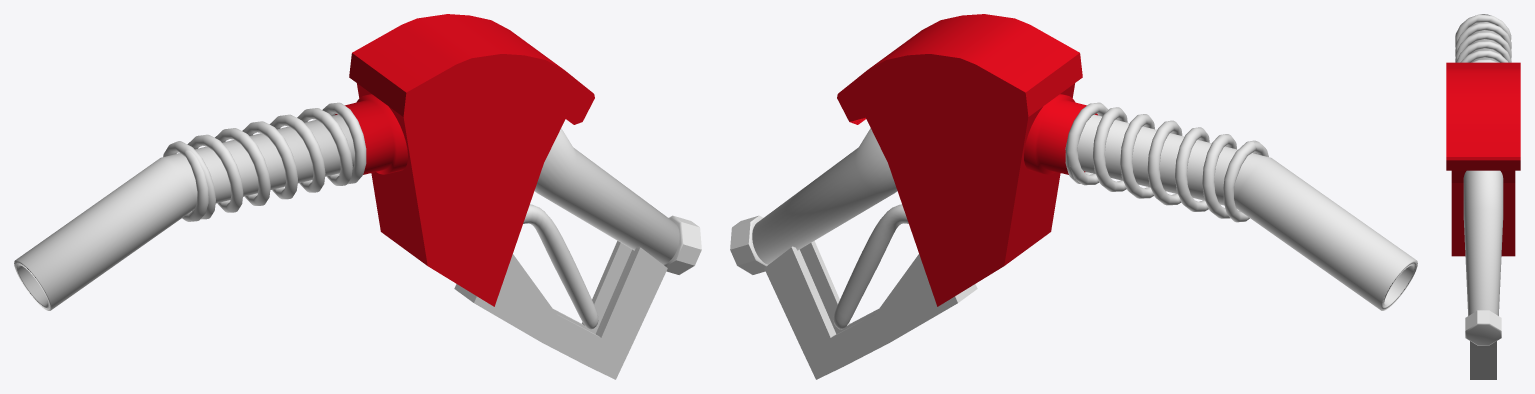
File: Gas Pump.fbx
3 renders of one model, left to right at view 1: azimuth 30°, elevation 25°; view 2: azimuth 150°, elevation 25°; view 3: azimuth 270°, elevation 25°, orthographic. The views are drawn at different scales.
Parts seen in each view (by area): view 1: Cube.004, Cylinder, Cube.001, Circle, Cylinder.001, Cube, Cube.002; view 2: Cube.004, Cylinder, Cube.001, Circle, Cylinder.001, Cube, Cube.002; view 3: Cube.004, Cylinder.001, Circle, Cube.002, Cube.001, Cylinder.
Boxes of the visible parts, x1,y1,x2,y2 form: Cube.004: (349, 14, 594, 306); Cylinder: (14, 94, 407, 310); Cube.001: (454, 241, 667, 379); Circle: (163, 102, 366, 221); Cylinder.001: (534, 128, 679, 264); Cube: (523, 204, 598, 329); Cube.002: (664, 215, 701, 274); Cube.004: (837, 14, 1082, 306); Cylinder: (1024, 94, 1417, 310); Cube.001: (764, 241, 977, 379); Circle: (1065, 102, 1268, 222); Cylinder.001: (752, 128, 897, 264); Cube: (833, 204, 908, 329); Cube.002: (730, 215, 767, 274); Cube.004: (1446, 62, 1520, 256); Cylinder.001: (1463, 170, 1503, 315); Circle: (1455, 14, 1511, 62); Cube.002: (1465, 310, 1501, 345); Cube.001: (1470, 341, 1496, 379); Cylinder: (1469, 14, 1499, 62).
Size of the model in its own units: 45.06 by 23.9 by 6.31.
